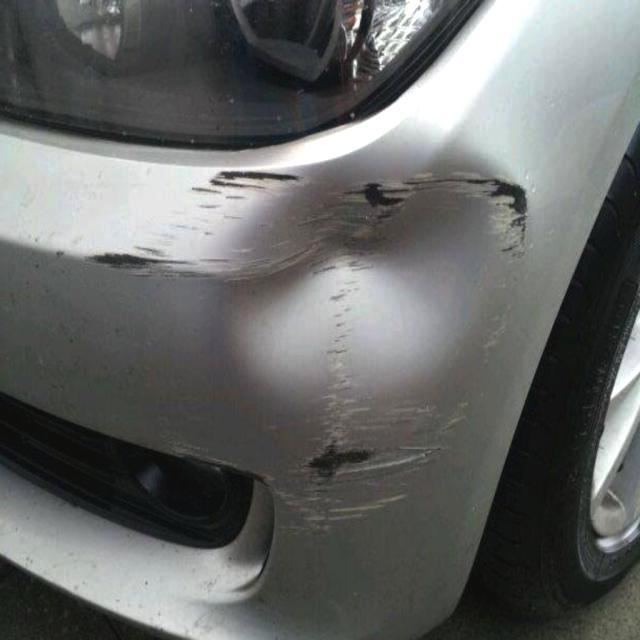minor: (83, 252, 220, 276)
moderate: (132, 107, 558, 551)
